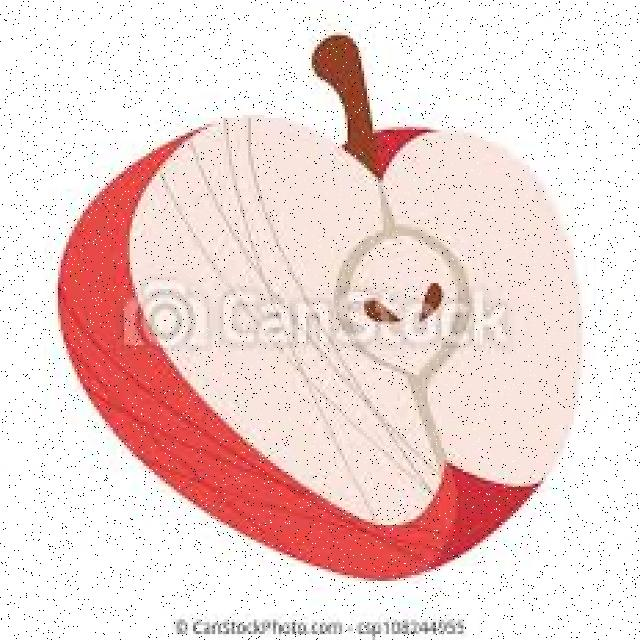Apple: (62, 32, 582, 590)
